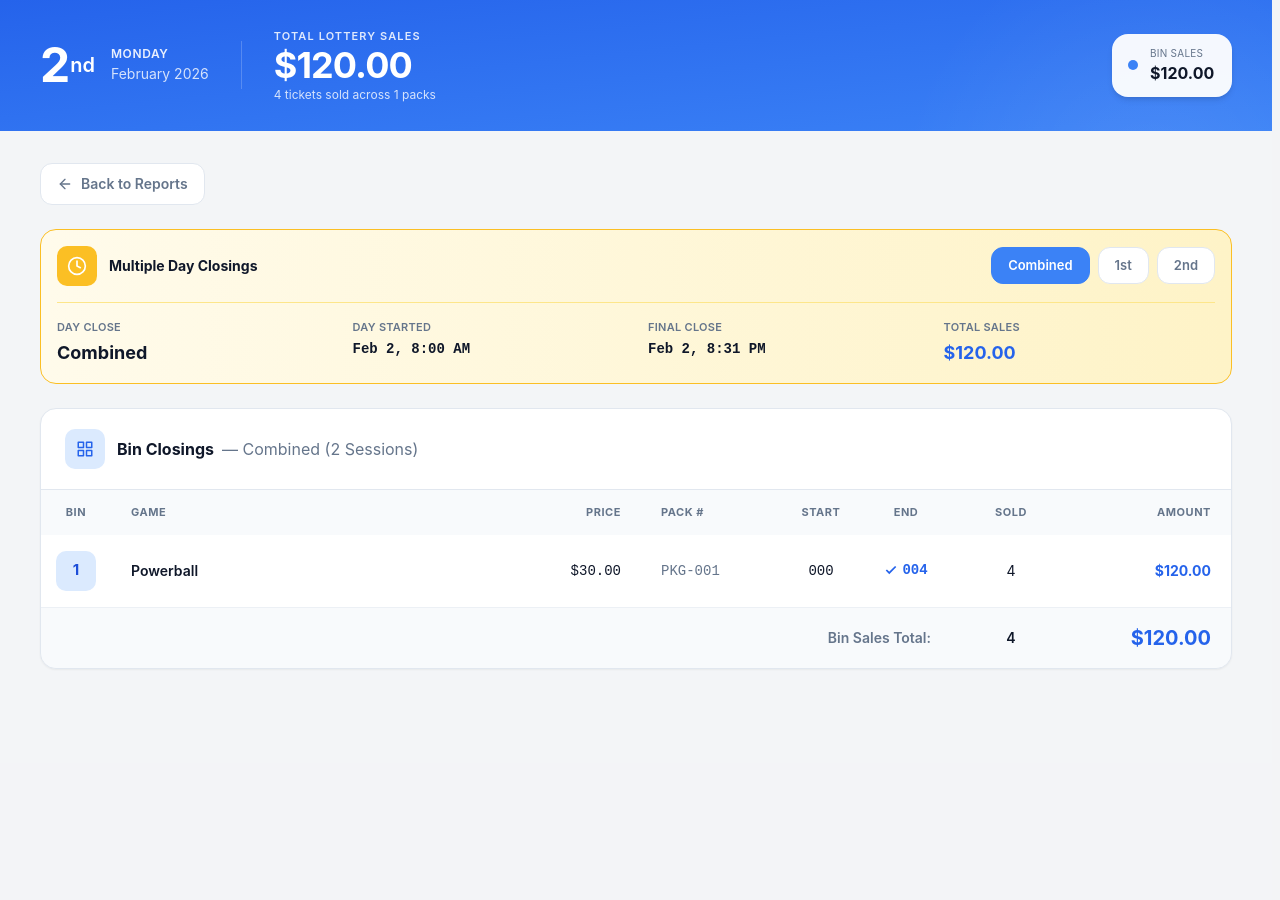
Test case: LotteryDayReportPage › Multi-Closing Date+Time Format (BIZ-002) › Multiple Closings - Date+Time Format › should show date+time in individual session view (not combined)
Click the button "1st" at [1123, 266], box [1098,247,1149,284]
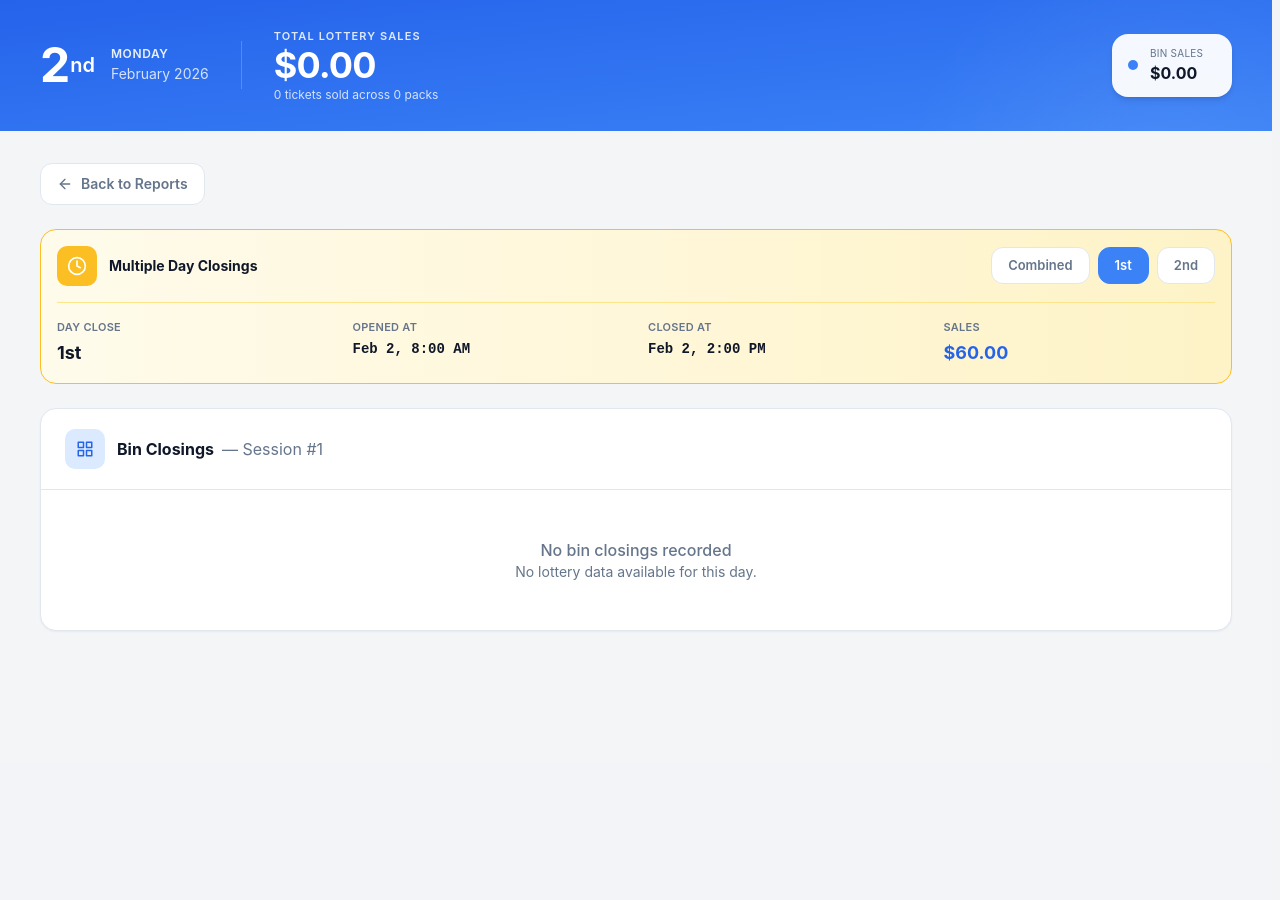
Expected: the text "Feb 2, 8:00 AM" is shown, [352,341,470,357]
Now the text "Opened At" is shown, box [352,320,417,334]
Now the text "Closed At" is shown, box [648,320,712,334]
